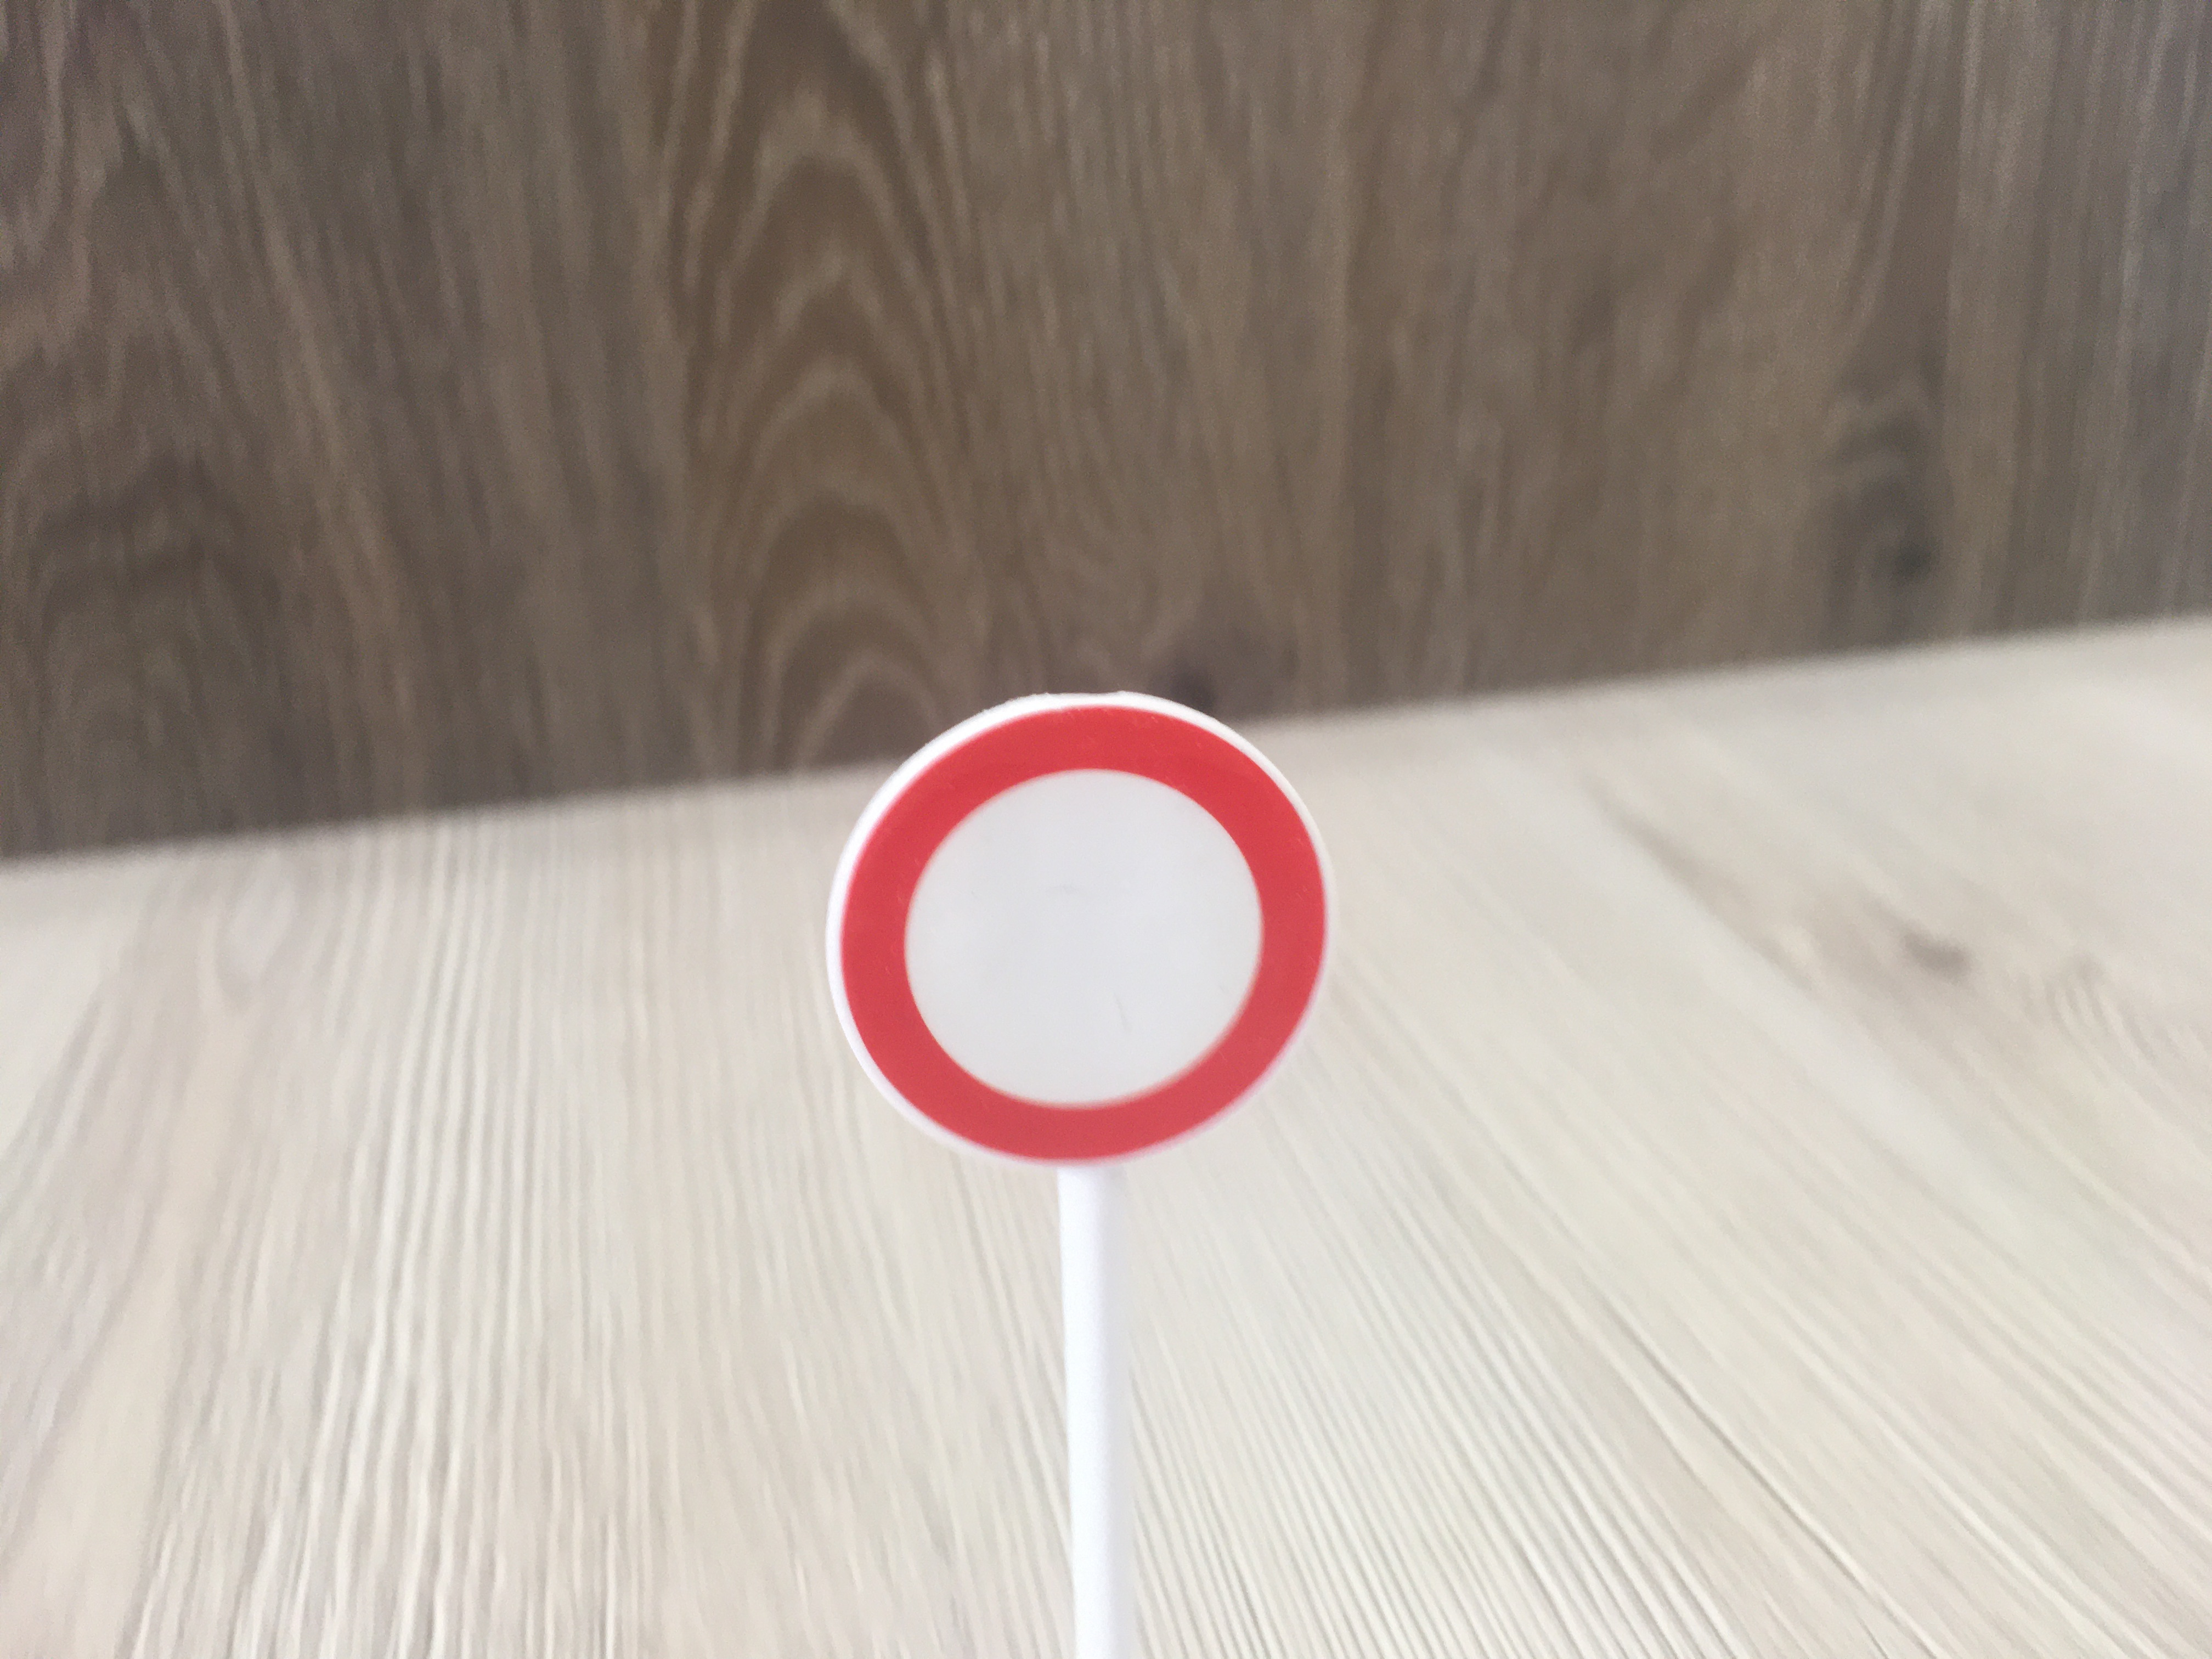noDrive: (805, 687, 1353, 1178)
